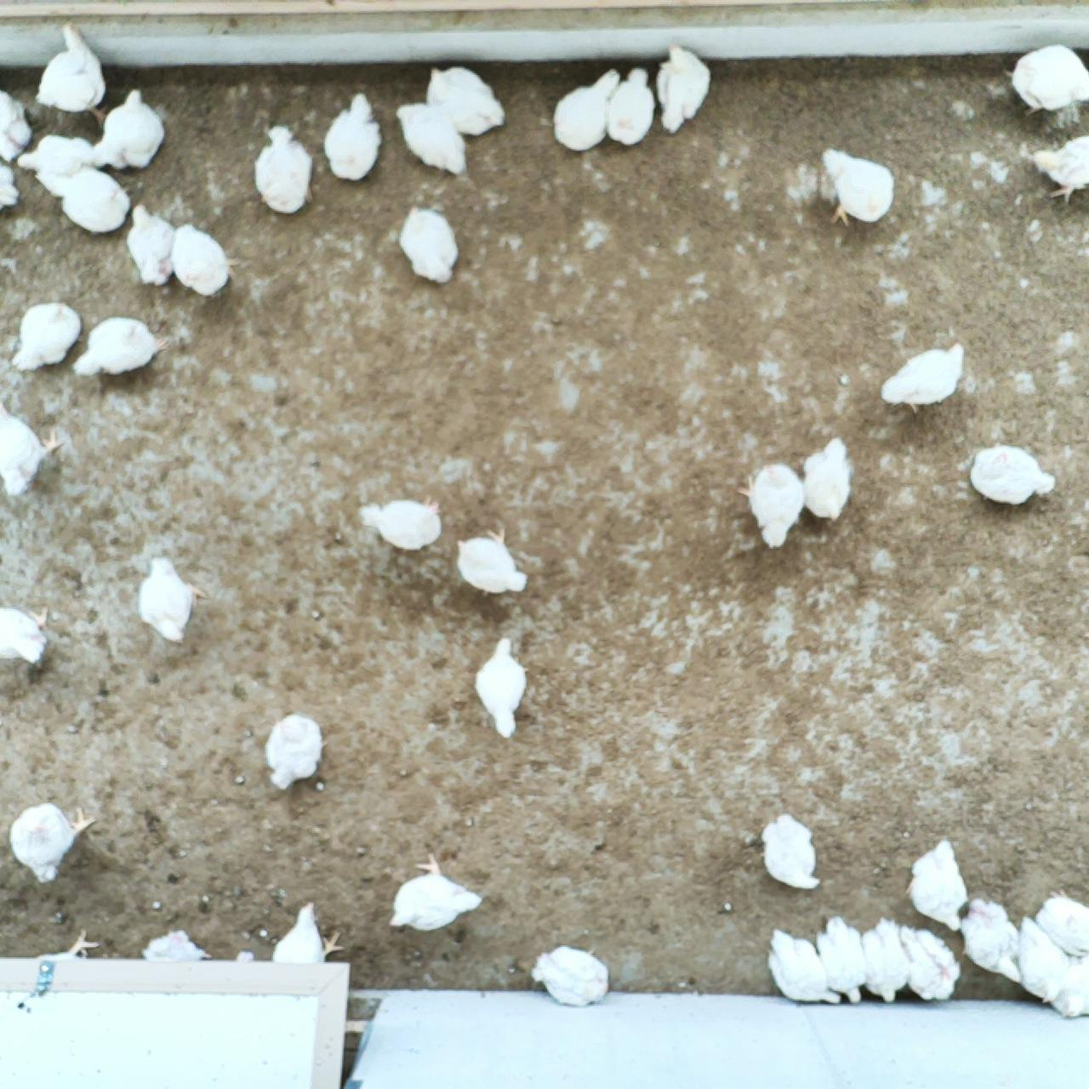chicken: (390, 849, 487, 938), (36, 20, 115, 128), (878, 334, 969, 415), (959, 439, 1059, 512), (9, 800, 91, 887), (267, 897, 345, 988), (86, 89, 168, 172), (70, 314, 175, 378), (815, 145, 895, 229), (130, 551, 202, 644), (29, 165, 130, 231), (1001, 42, 1089, 115), (551, 64, 620, 156), (251, 122, 315, 221), (0, 397, 61, 500), (422, 66, 506, 139), (395, 98, 469, 180), (655, 38, 717, 134), (739, 461, 805, 550), (9, 299, 85, 375), (761, 929, 841, 1001), (904, 834, 965, 928), (528, 942, 611, 1011), (475, 632, 527, 742), (448, 528, 526, 601), (171, 217, 240, 297), (321, 92, 381, 184), (354, 493, 445, 553), (961, 894, 1023, 982), (812, 913, 868, 1007), (1028, 124, 1089, 207), (28, 924, 102, 992), (264, 712, 326, 792), (760, 814, 822, 894), (900, 925, 961, 1005), (397, 200, 454, 285), (130, 200, 182, 291), (800, 433, 852, 522), (860, 916, 911, 1005), (137, 927, 214, 984), (605, 66, 655, 148), (1015, 918, 1062, 1004), (13, 138, 104, 182), (1031, 886, 1089, 955), (0, 596, 48, 669), (0, 76, 33, 168), (1052, 943, 1089, 1023), (0, 153, 19, 220)
